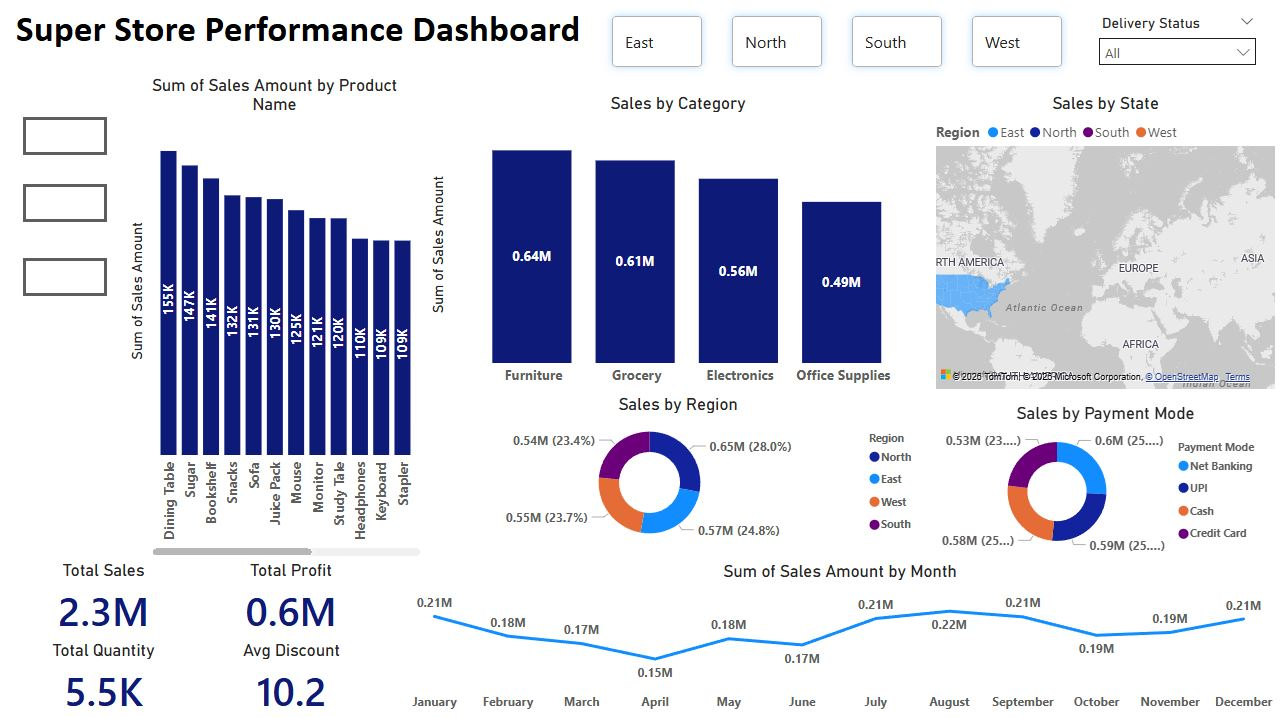

The dashboard page shown, as its layout file describes it:
{"tool":"powerbi","page":{"name":"Page 1","canvas":[1280,720],"ordinal":0},"visuals":[{"type":"actionButton","box":[23.3,116.7,83.6,37.9],"z":0},{"type":"textbox","box":[10.8,0,828.2,62.4],"z":1000},{"type":"advancedSlicerVisual","fields":{"Values":["Superstore_Management_System.Region"]},"box":[596.2,0,485,82.5],"z":2000},{"type":"slicer","fields":{"Values":["Superstore_Management_System.Delivery Status"]},"box":[1089.4,9.7,177,72.9],"z":3000},{"type":"clusteredColumnChart","title":" Sales by Category","fields":{"Category":["Superstore_Management_System.Category"],"Y":["Sum(Superstore_Management_System.Sales Amount)"]},"box":[425,93.4,505.8,300.5],"z":4000},{"type":"filledMap","title":" Sales by State ","fields":{"Category":["Superstore_Management_System.State"],"Series":["Superstore_Management_System.Region"]},"box":[930.8,93.4,349.2,300.5],"z":5000},{"type":"donutChart","title":" Sales by Payment Mode","fields":{"Category":["Superstore_Management_System.Payment Mode"],"Y":["Sum(Superstore_Management_System.Sales Amount)"]},"box":[930.8,402.7,349.2,158.5],"z":6000},{"type":"donutChart","title":" Sales by Region","fields":{"Category":["Superstore_Management_System.Region"],"Y":["Sum(Superstore_Management_System.Sales Amount)"]},"box":[425,393.9,505.8,158.5],"z":7000},{"type":"lineChart","fields":{"Category":["Superstore_Management_System.Order Date.Variation.Date Hierarchy.Month"],"Y":["Sum(Superstore_Management_System.Sales Amount)"]},"box":[399.8,561.2,880.2,158.5],"z":8000},{"type":"clusteredColumnChart","fields":{"Category":["Superstore_Management_System.Product Name"],"Y":["Sum(Superstore_Management_System.Sales Amount)"]},"box":[123.5,74.9,301.5,486.3],"z":9000},{"type":"actionButton","box":[23.3,183.8,83.6,37.9],"z":10000},{"type":"actionButton","box":[23.3,257.8,83.6,37.9],"z":11000},{"type":"card","title":"Total Sales","fields":{"Values":["Sum(Superstore_Management_System.Sales Amount)"]},"box":[10.7,560.2,185.8,79.8],"z":12000},{"type":"card","title":"Total Profit","fields":{"Values":["Sum(Superstore_Management_System.Profit)"]},"box":[198.4,560.2,185.8,79.8],"z":13000},{"type":"card","title":"Total Quantity","fields":{"Values":["Sum(Superstore_Management_System.Quantity)"]},"box":[10.7,640,185.8,79.8],"z":14000},{"type":"card","title":"Avg Discount","fields":{"Values":["Avg(Superstore_Management_System.Discount (%))"]},"box":[191.6,640,199.4,79.8],"z":15000}]}

Visuals, with their boxes in screenshot pixels (x1, y1, x2, y2), scaled from the page's 1280x720 canvas onto the 1280x718 screenshot:
actionButton: select_region(23, 116, 107, 154)
textbox: select_region(11, 0, 839, 62)
advancedSlicerVisual - Superstore_Management_System.Region: select_region(596, 0, 1081, 82)
slicer - Superstore_Management_System.Delivery Status: select_region(1089, 10, 1266, 82)
" Sales by Category" clusteredColumnChart: select_region(425, 93, 931, 393)
" Sales by State " filledMap: select_region(931, 93, 1279, 393)
" Sales by Payment Mode" donutChart: select_region(931, 402, 1279, 560)
" Sales by Region" donutChart: select_region(425, 393, 931, 551)
lineChart - Superstore_Management_System.Order Date.Variation.Date Hierarchy.Month x Sum(Superstore_Management_System.Sales Amount): select_region(400, 560, 1279, 717)
clusteredColumnChart - Superstore_Management_System.Product Name x Sum(Superstore_Management_System.Sales Amount): select_region(124, 75, 425, 560)
actionButton: select_region(23, 183, 107, 221)
actionButton: select_region(23, 257, 107, 295)
"Total Sales" card: select_region(11, 559, 196, 638)
"Total Profit" card: select_region(198, 559, 384, 638)
"Total Quantity" card: select_region(11, 638, 196, 717)
"Avg Discount" card: select_region(192, 638, 391, 717)
